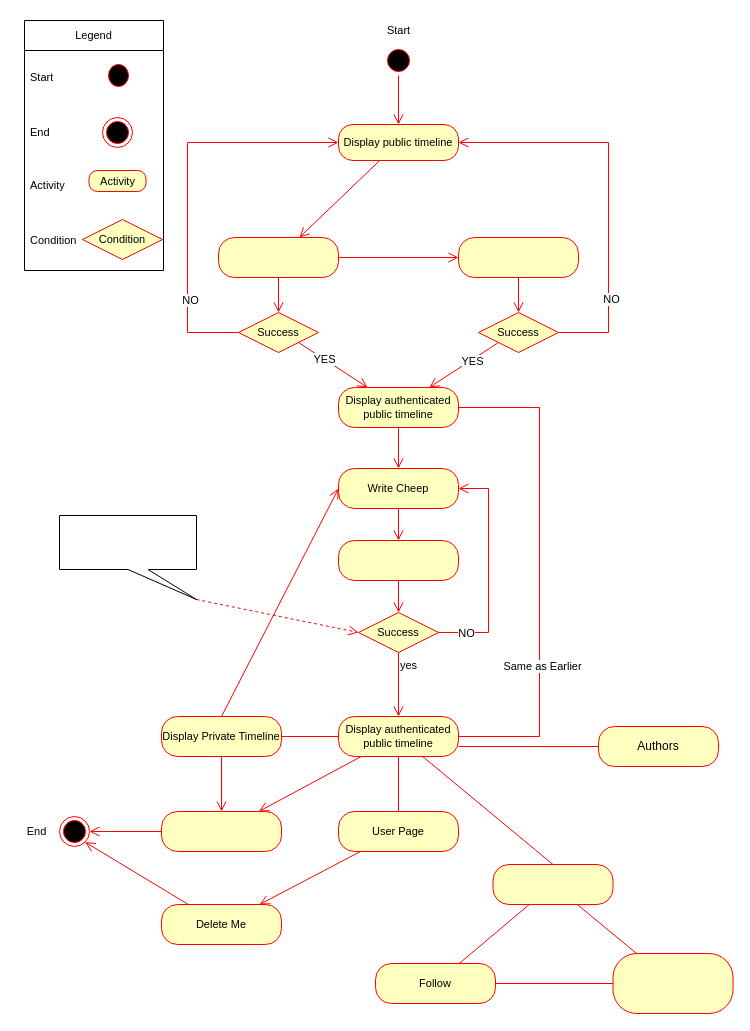
The diagram is 750 pixels wide and 1031 high, and some of its shapes have lost their labels. The shapes that lost their labels are listed below. From the top down, each one's box as (x1, y1, x2, y2) in pixels, then its label:
(218, 236, 338, 278): Login
(458, 236, 578, 278): Register
(58, 514, 196, 600): Restrictions: length <= 160 chars authenticatedAuthor = true
(338, 540, 458, 580): Post Cheep
(160, 810, 282, 852): logout
(492, 864, 613, 904): User Timeline
(612, 952, 733, 1014): Unfollow
